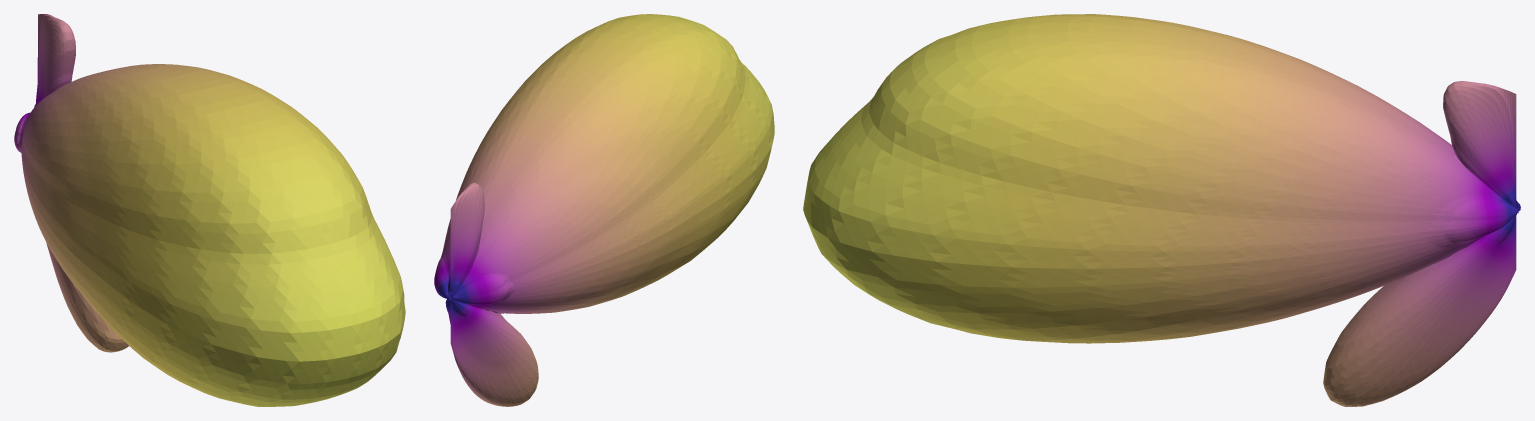
File: AIR-ANT2513P4M-NS_EDCS-22050602-2.4GHz.glb
3 views of the same model, side by side, from view 1: azimuth 30°, elevation 25°; view 2: azimuth 150°, elevation 25°; view 3: azimuth 270°, elevation 25° (orthographic). The views are drawn at different scales.
Bounding box in the file's own units: 0.4063 × 0.5752 × 1.
